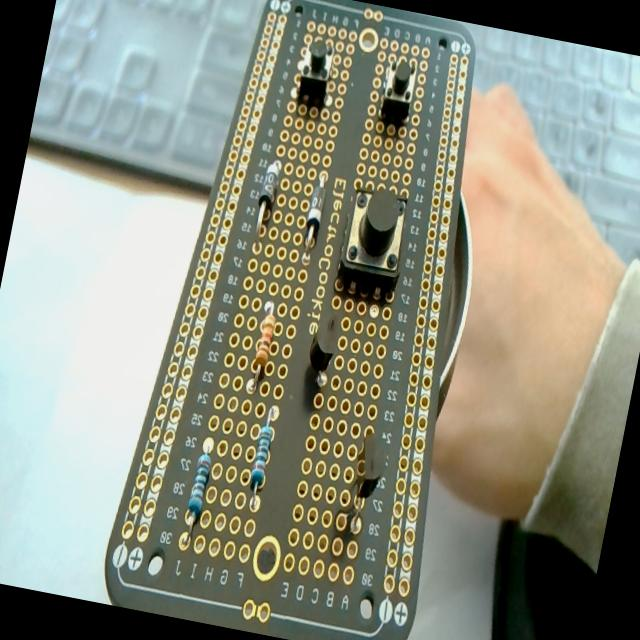diode: (252, 157, 284, 236), (301, 170, 330, 254)
resistor: (180, 443, 216, 547), (246, 408, 279, 507), (246, 303, 280, 395)
switch: (334, 182, 415, 300), (294, 36, 336, 106), (378, 56, 420, 126)
transistor: (342, 427, 389, 535), (304, 296, 346, 387)
